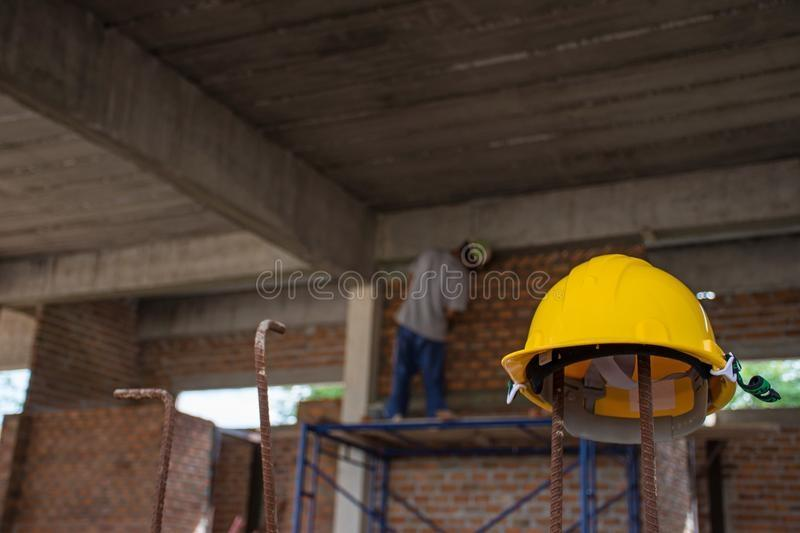helmet: (498, 248, 741, 441)
